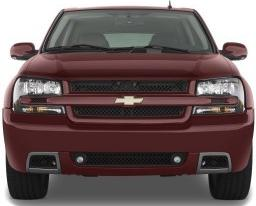front_view: (9, 73, 250, 174)
headlight: (190, 80, 247, 119)
